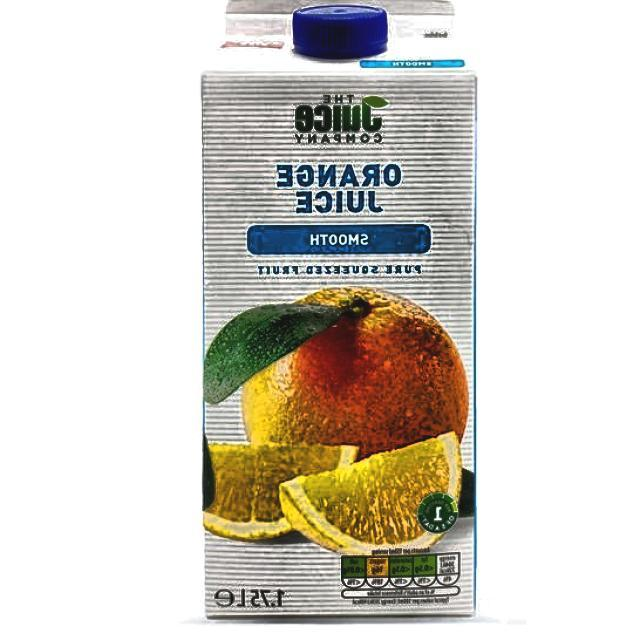cardboard: (200, 0, 480, 618)
